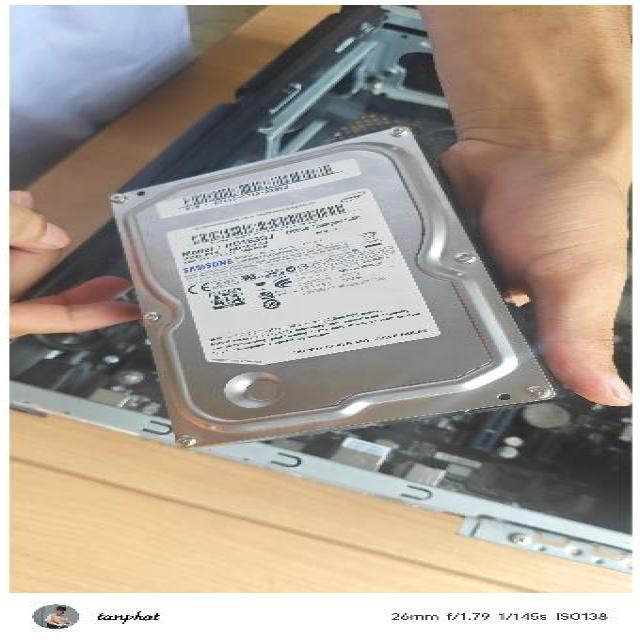DISK: (99, 123, 571, 449)
